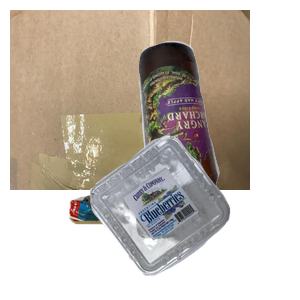cardboard: (10, 10, 250, 190)
glass: (136, 39, 300, 219)
plastic: (88, 133, 300, 300)
trash: (66, 173, 272, 300)
